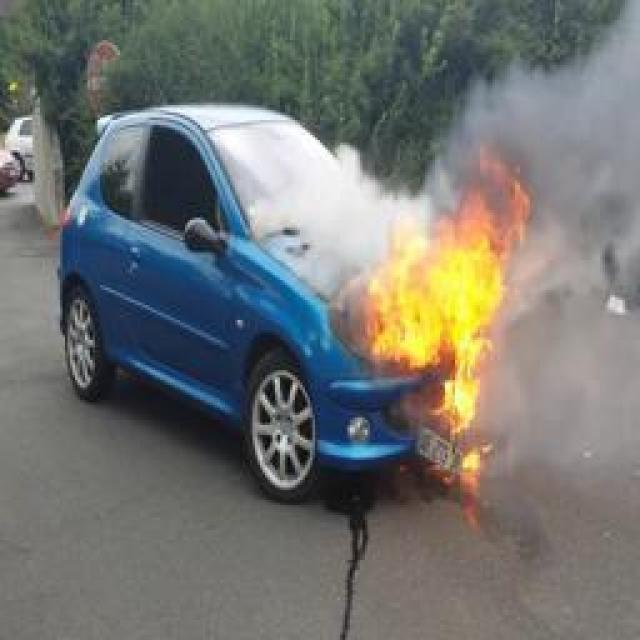Fire: (369, 144, 529, 434)
